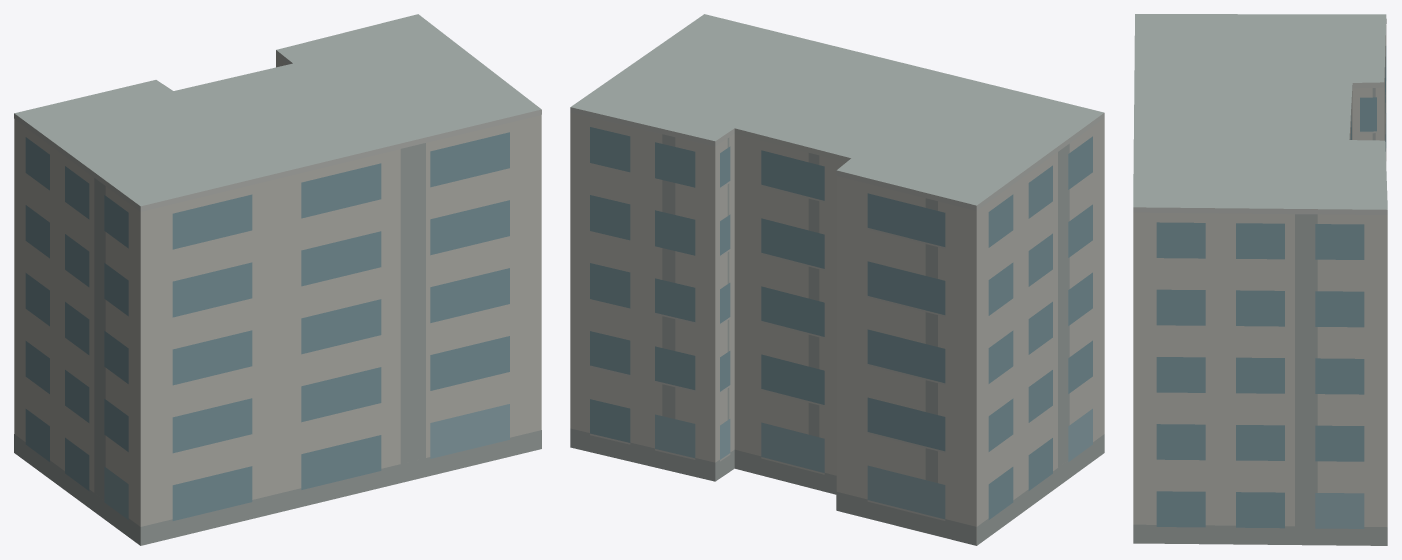
Rendered from survey-upis-32738120.glb.
The picture shows the model from 3 angles, left to right: view 1: azimuth 30°, elevation 25°; view 2: azimuth 150°, elevation 25°; view 3: azimuth 270°, elevation 25°; orthographic projection.
Visible parts, largest first — view 1: survey-upis-32738120.tmp; view 2: survey-upis-32738120.tmp; view 3: survey-upis-32738120.tmp.
Part boxes in pixels (<box>): survey-upis-32738120.tmp: <box>14,14,541,545</box>; survey-upis-32738120.tmp: <box>570,14,1104,545</box>; survey-upis-32738120.tmp: <box>1133,14,1387,545</box>.
Size of the model in its own units: 19.25 by 15.4 by 10.59.
